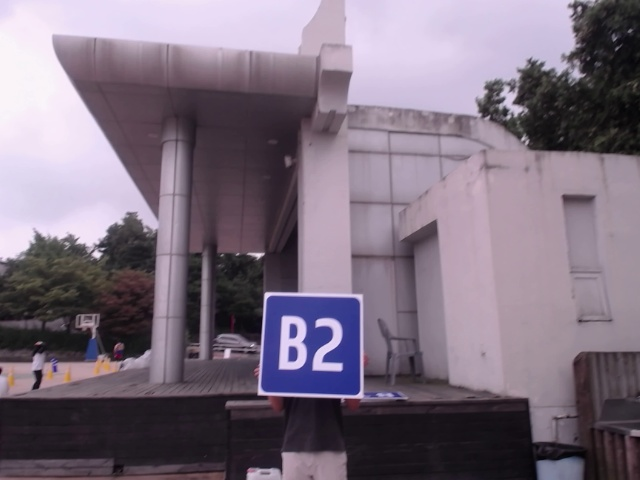delivery_b2: (258, 291, 363, 399)
